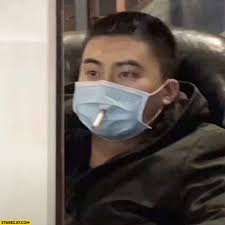mask: (65, 11, 182, 142)
